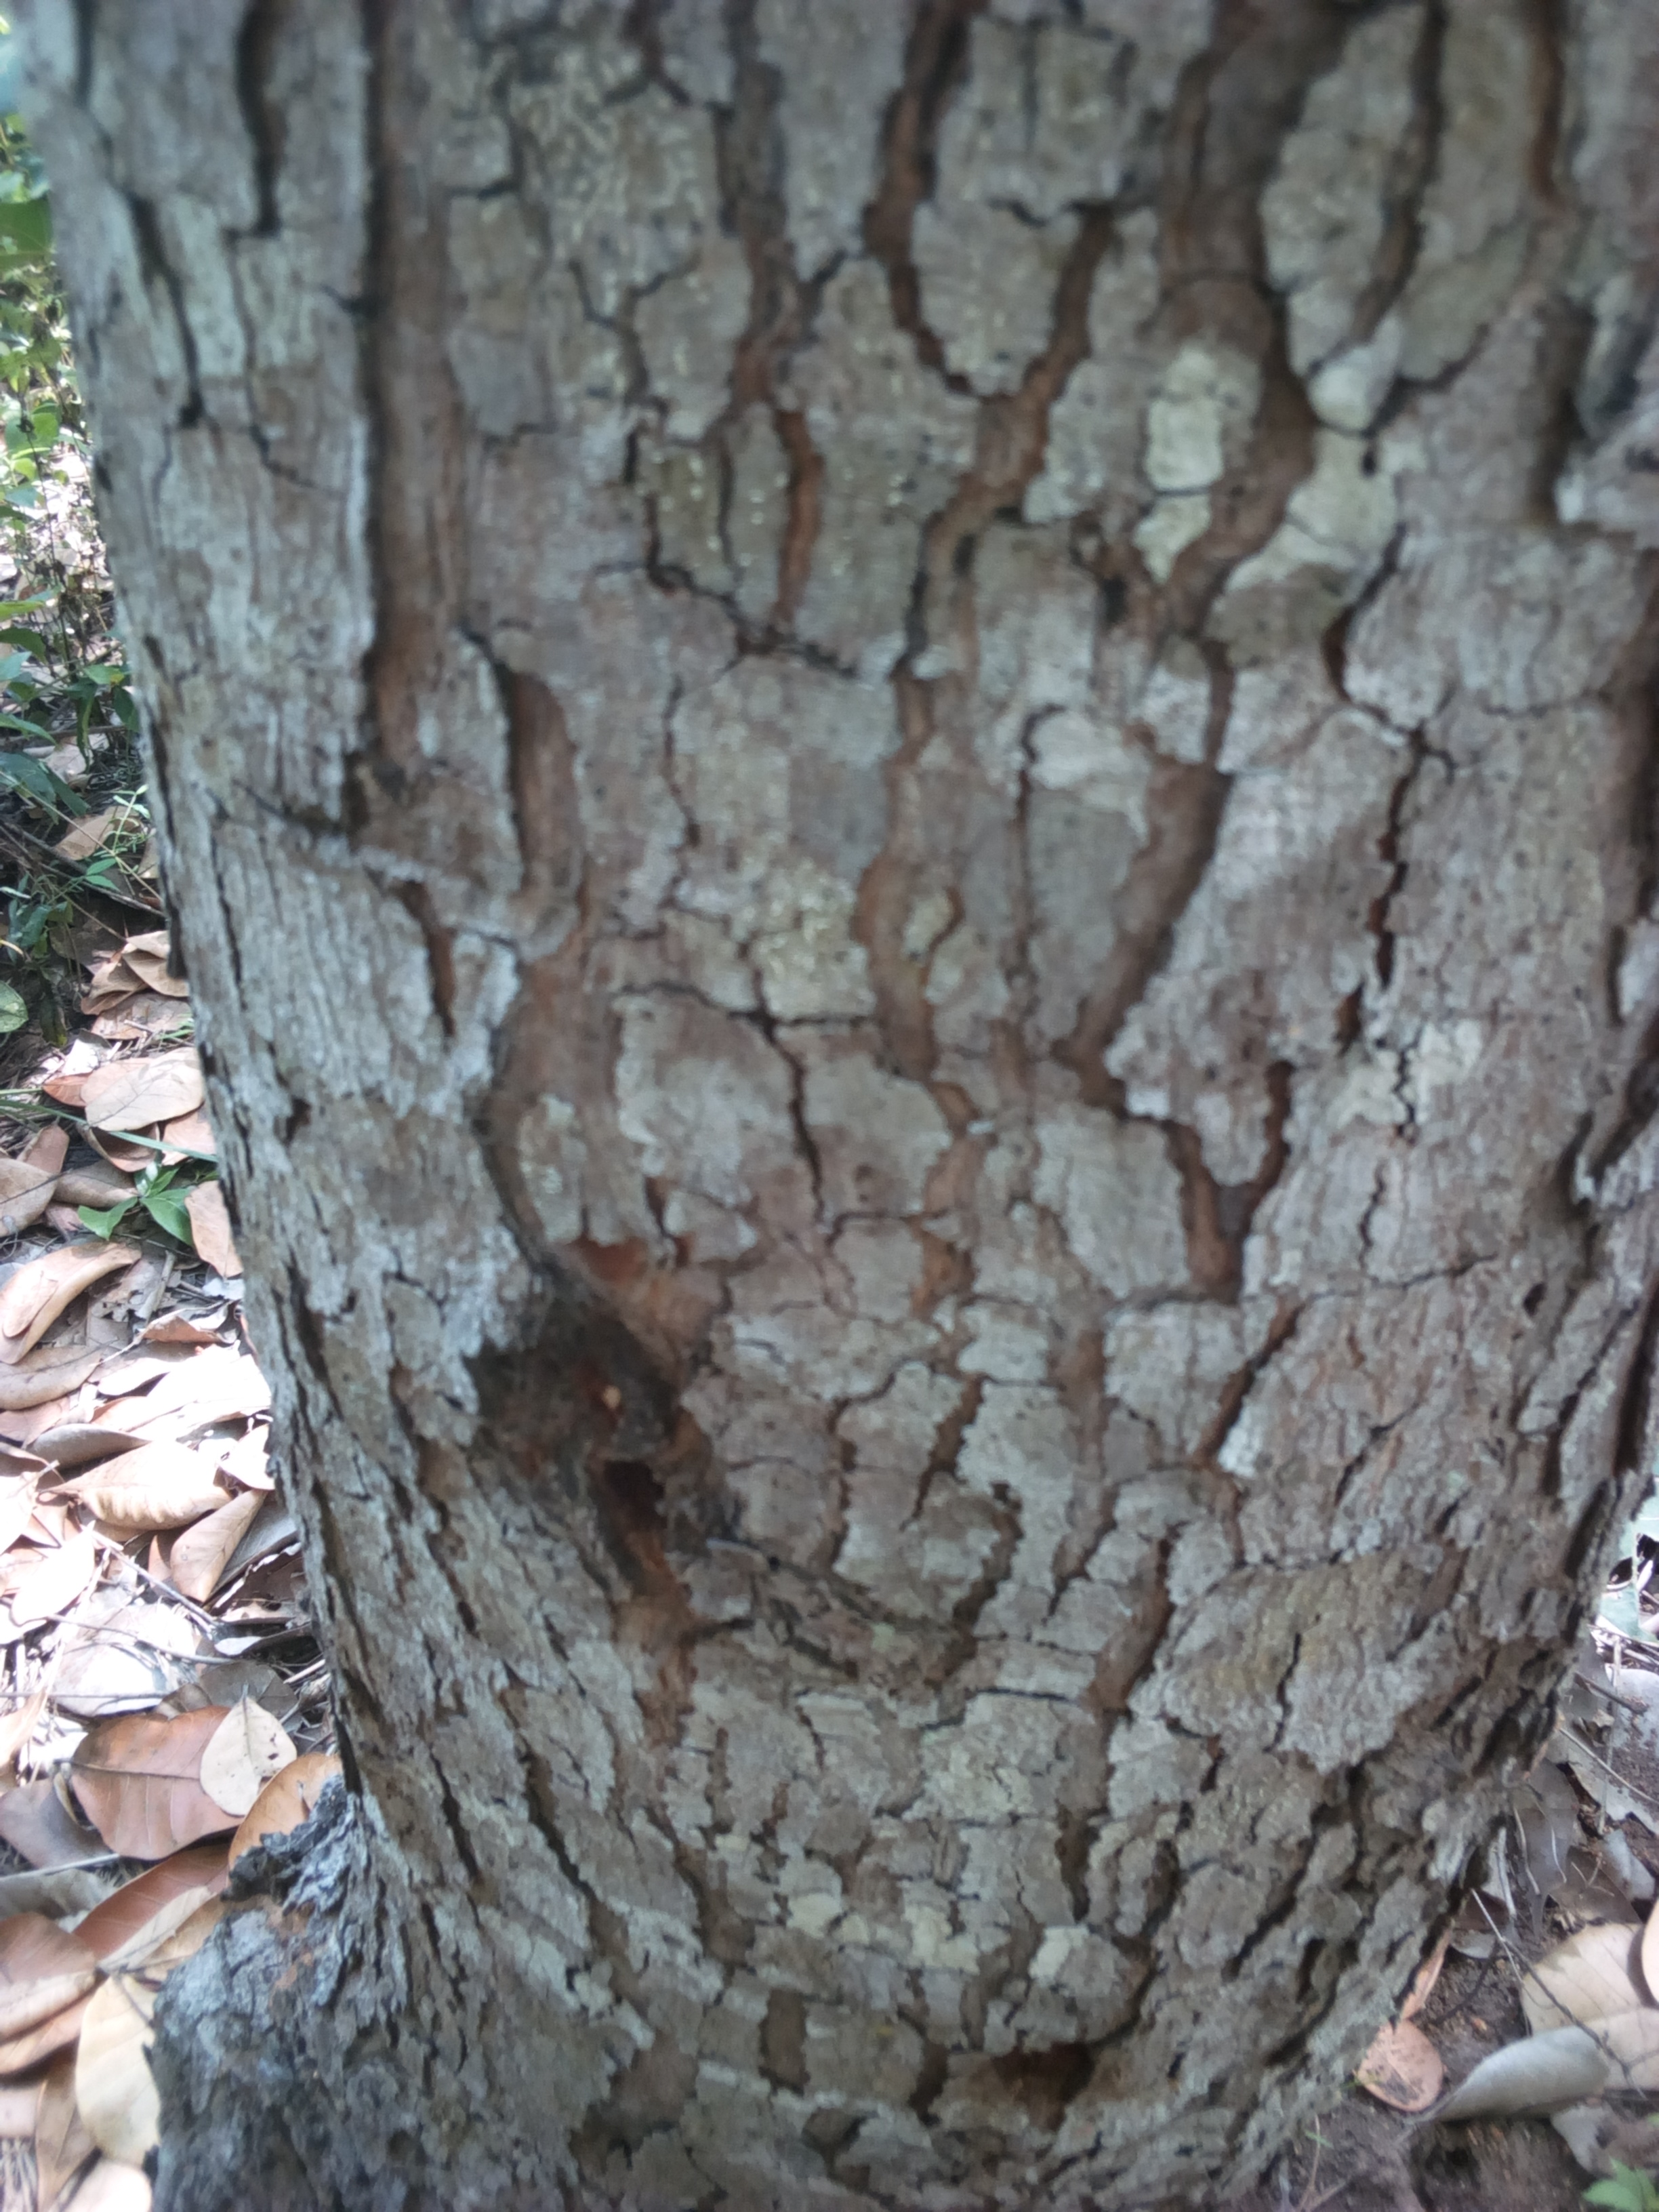Apate terebrans: (538, 1404, 708, 1590)
